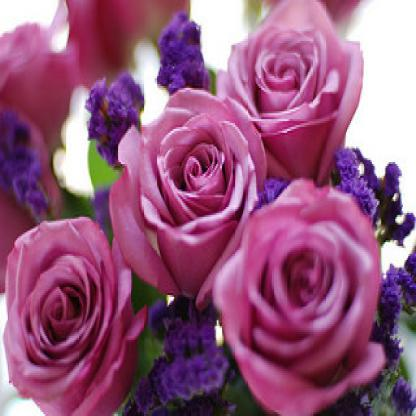ROSE-MAWAR: (4, 15, 409, 403)
